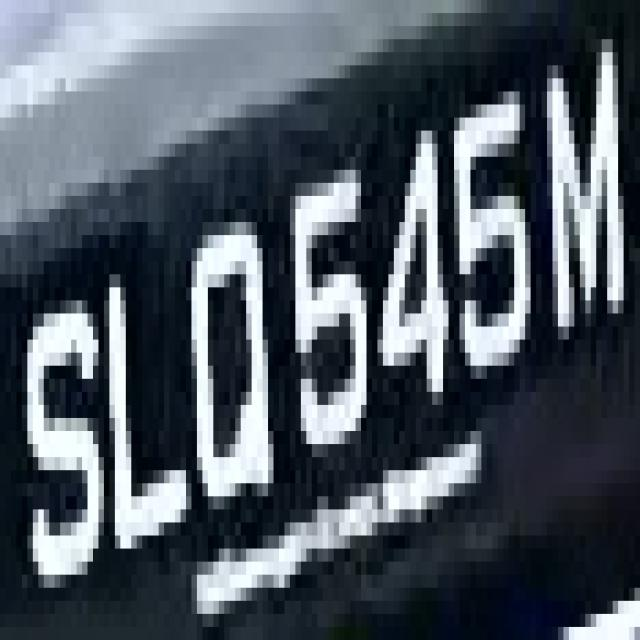4: (367, 131, 454, 405)
5: (448, 65, 542, 405), (290, 144, 366, 483)
L: (98, 222, 197, 601)
M: (536, 26, 640, 340)
Q: (180, 209, 274, 535)
S: (16, 274, 110, 601)
